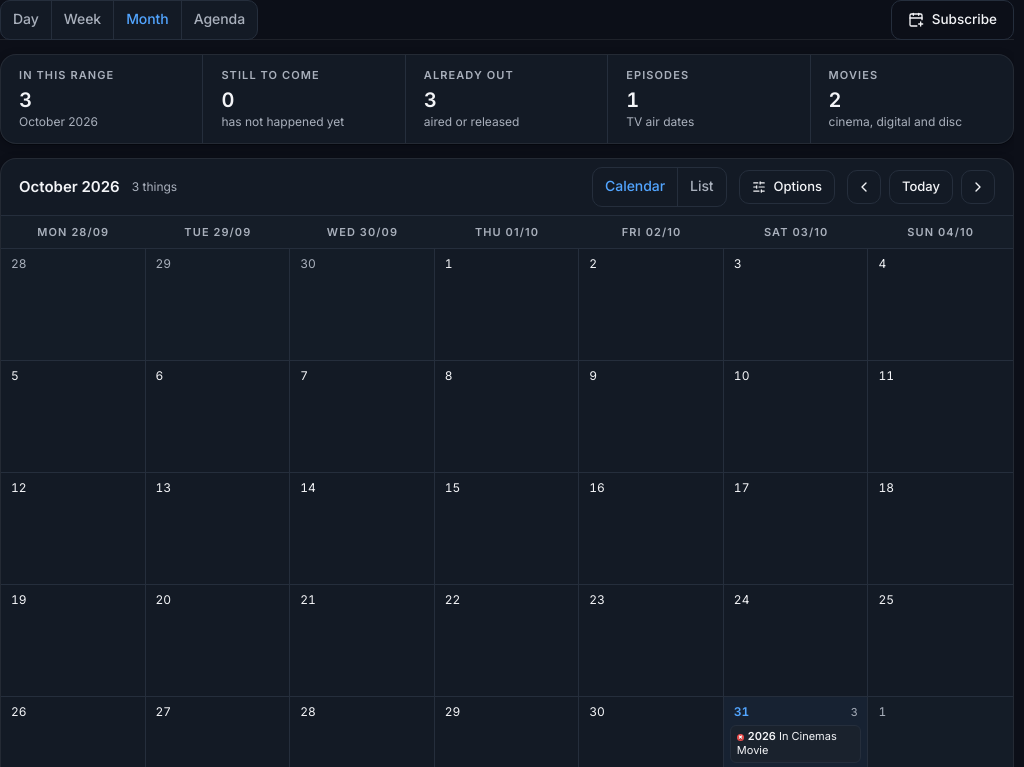
Test: Calendar options drawer (#786) › opens from the toolbar and offers the release-type and highlight switches
Click the button "Options" at x=787, y=186, box [739,170,835,204]
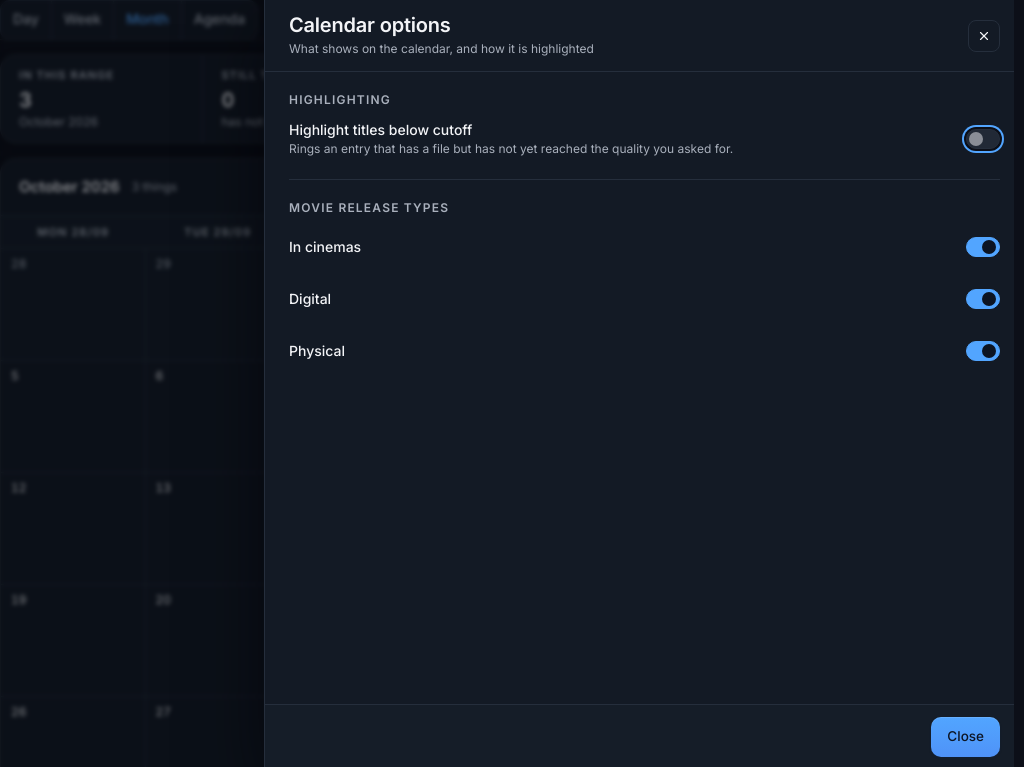
expect the switch named "Highlight titles below cutoff" in the row of "Highlight titles below cutoff" is shown: met, box [966,129,1000,149]
expect the 2nd switch named "In cinemas" is shown: met, box [966,237,1000,257]
expect the 3rd switch named "Digital" is shown: met, box [966,289,1000,309]
